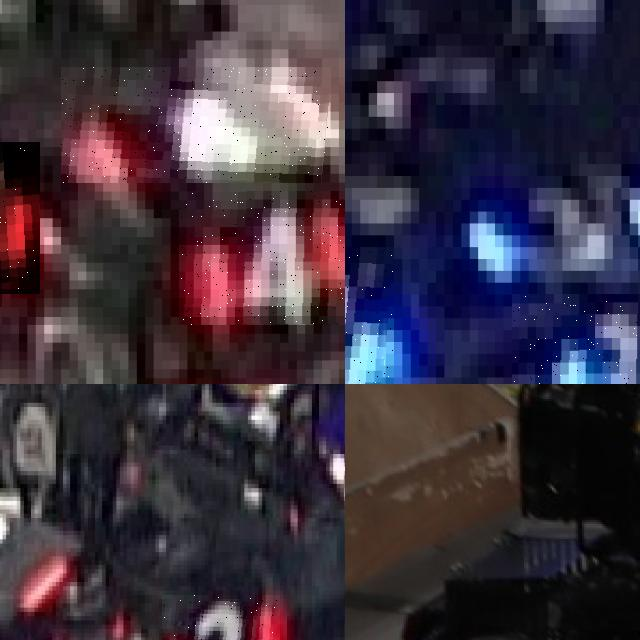B3: (511, 294, 640, 384), (345, 247, 394, 384)
R3: (162, 594, 279, 640)
R4: (61, 67, 331, 183), (178, 191, 345, 324), (0, 142, 39, 293)
